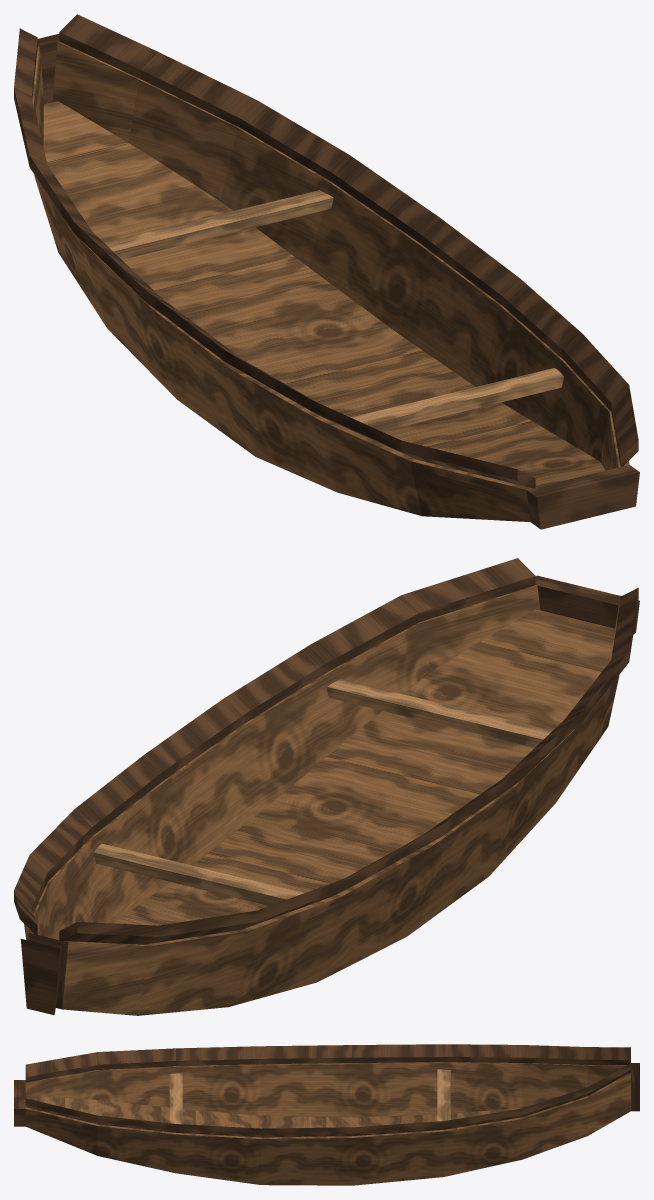
The model's file is sampan.fbx.
The picture shows the model from 3 angles, top to bottom: view 1: azimuth 30°, elevation 25°; view 2: azimuth 150°, elevation 25°; view 3: azimuth 270°, elevation 25°; orthographic projection. The views are drawn at different scales.
Parts seen in each view (by area): view 1: sampan; view 2: sampan; view 3: sampan.
Boxes of the visible parts, box(x1,y1,x2,y2) form: sampan: box(14, 14, 639, 529); sampan: box(14, 558, 639, 1015); sampan: box(14, 1044, 639, 1185).
Size of the model in its own units: 149 by 83 by 479.
